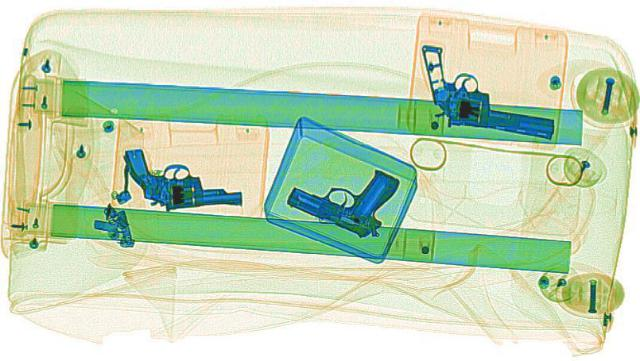Gun: (420, 37, 554, 144), (270, 155, 430, 236), (120, 141, 242, 212)
